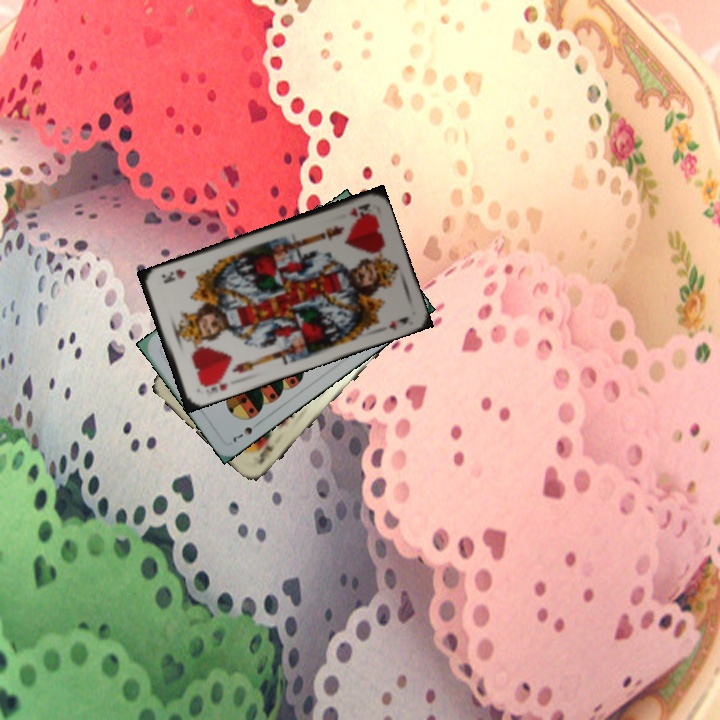HK: (196, 374, 231, 394), (346, 199, 372, 220)
S7: (229, 423, 255, 445)
SK: (255, 441, 277, 467)
